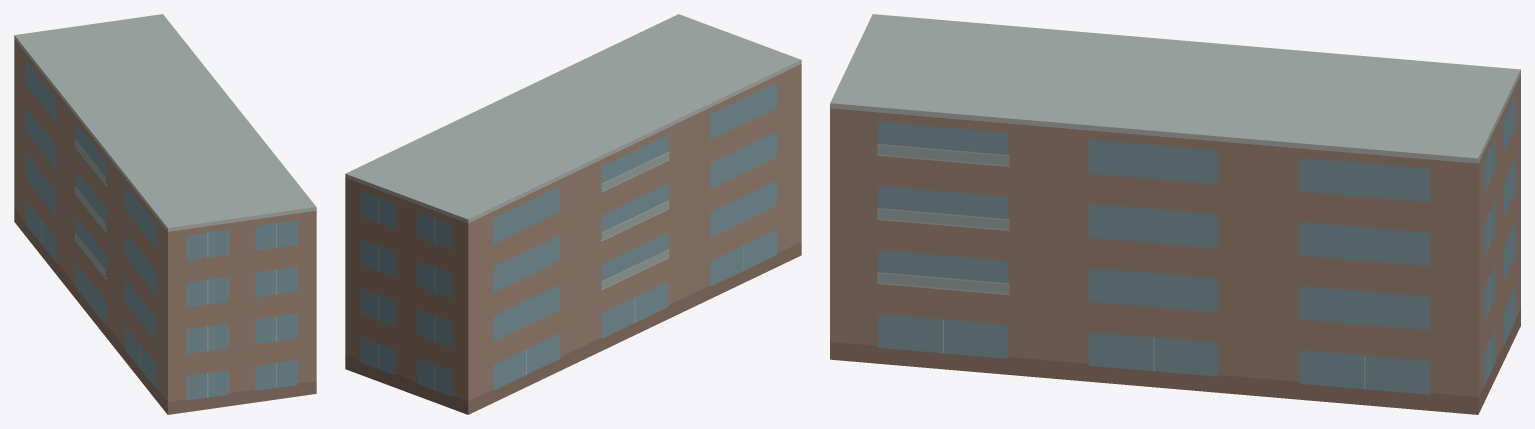
Rendered from residential-f0fde91f-a96c-408b-ba8a-fb47aad5c351.glb.
3 renders of one model, left to right at view 1: azimuth 30°, elevation 25°; view 2: azimuth 150°, elevation 25°; view 3: azimuth 270°, elevation 25°, orthographic. The views are drawn at different scales.
Visible parts, largest first — view 1: residential-f0fde91f-a96c-408b-ba8a-fb47aad5c351.tmp; view 2: residential-f0fde91f-a96c-408b-ba8a-fb47aad5c351.tmp; view 3: residential-f0fde91f-a96c-408b-ba8a-fb47aad5c351.tmp.
Part boxes in pixels (left/top/right/bottom): residential-f0fde91f-a96c-408b-ba8a-fb47aad5c351.tmp: left=14, top=14, right=316, bottom=414; residential-f0fde91f-a96c-408b-ba8a-fb47aad5c351.tmp: left=345, top=14, right=801, bottom=414; residential-f0fde91f-a96c-408b-ba8a-fb47aad5c351.tmp: left=830, top=14, right=1520, bottom=414.
Size of the model in its own units: 14.76 by 12.2 by 29.8.
